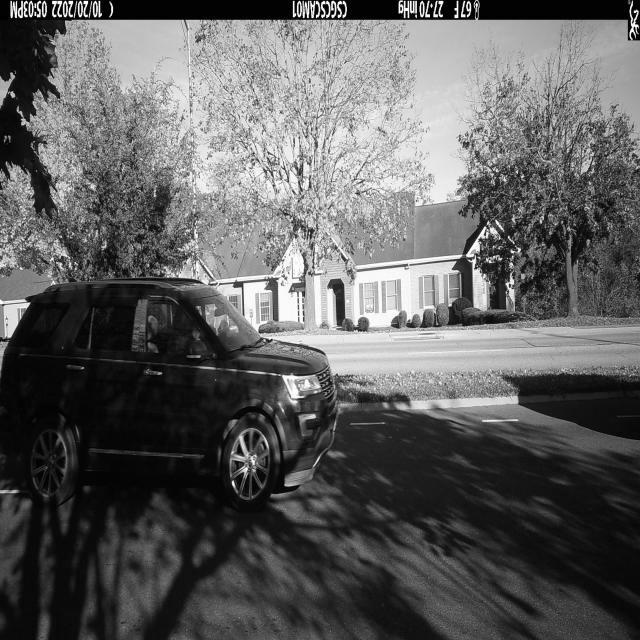SUV: (0, 278, 337, 510)
